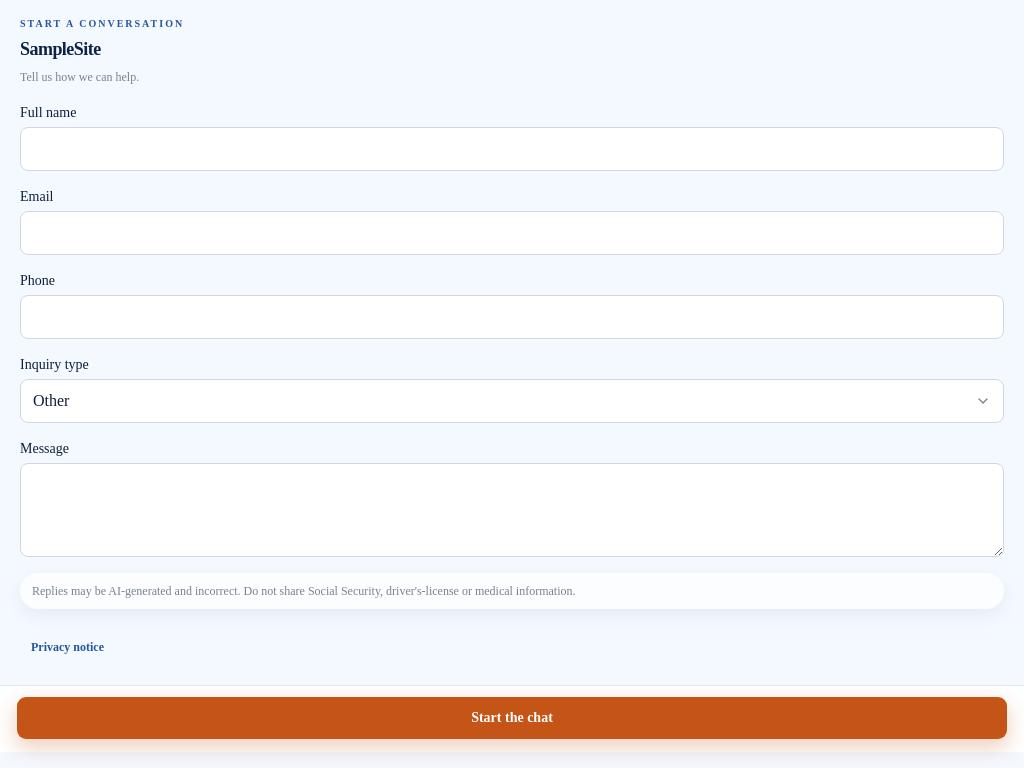
pre-chat form › empty required fields show inline errors
Click the button "Start the chat": click(512, 718) [16,696,1008,740]
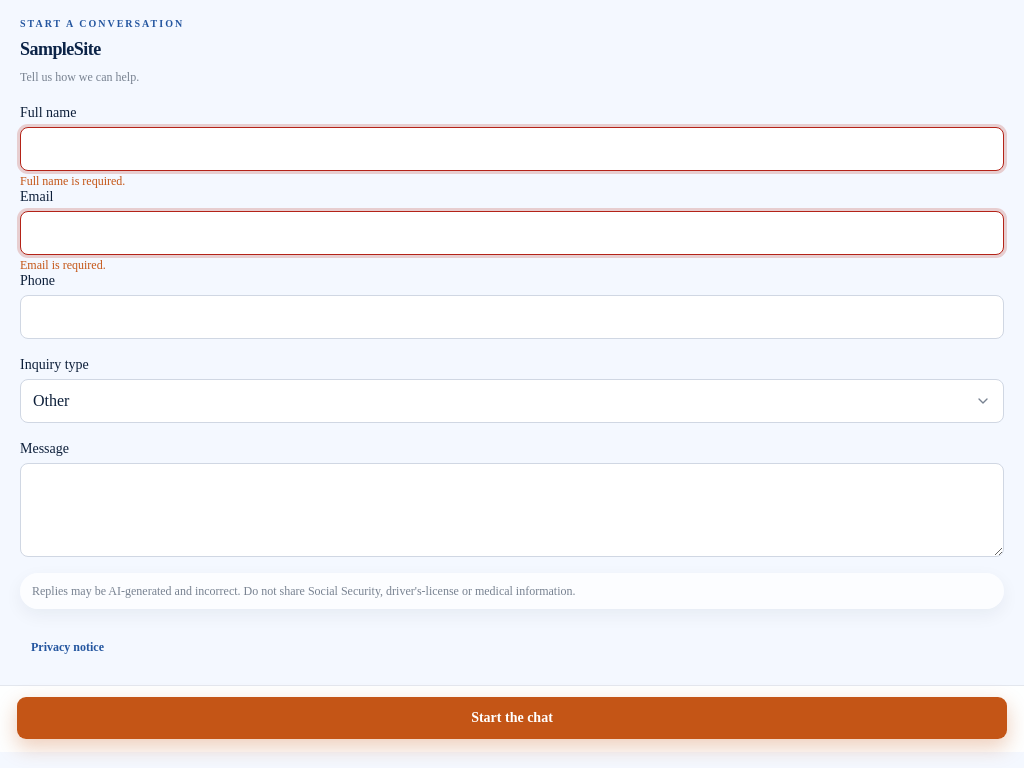
Expected: the text "Full name is required." is shown, [20,174,125,188]
Expected: the text "Email is required." is shown, [20,258,106,272]
